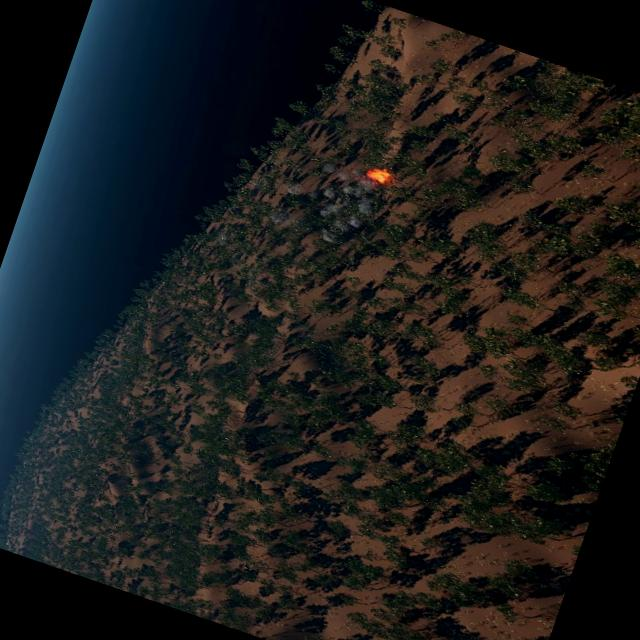fire: (366, 166, 390, 184)
smoke: (307, 164, 382, 252)
